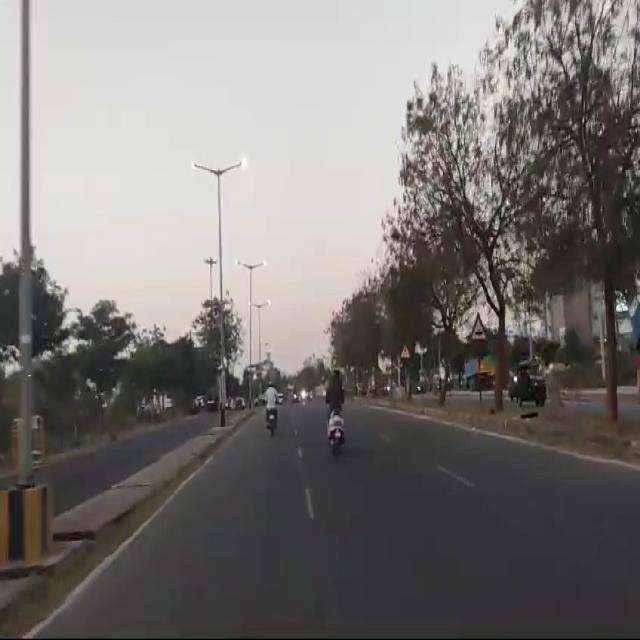bien_nguy_hiem: (468, 310, 488, 342)
